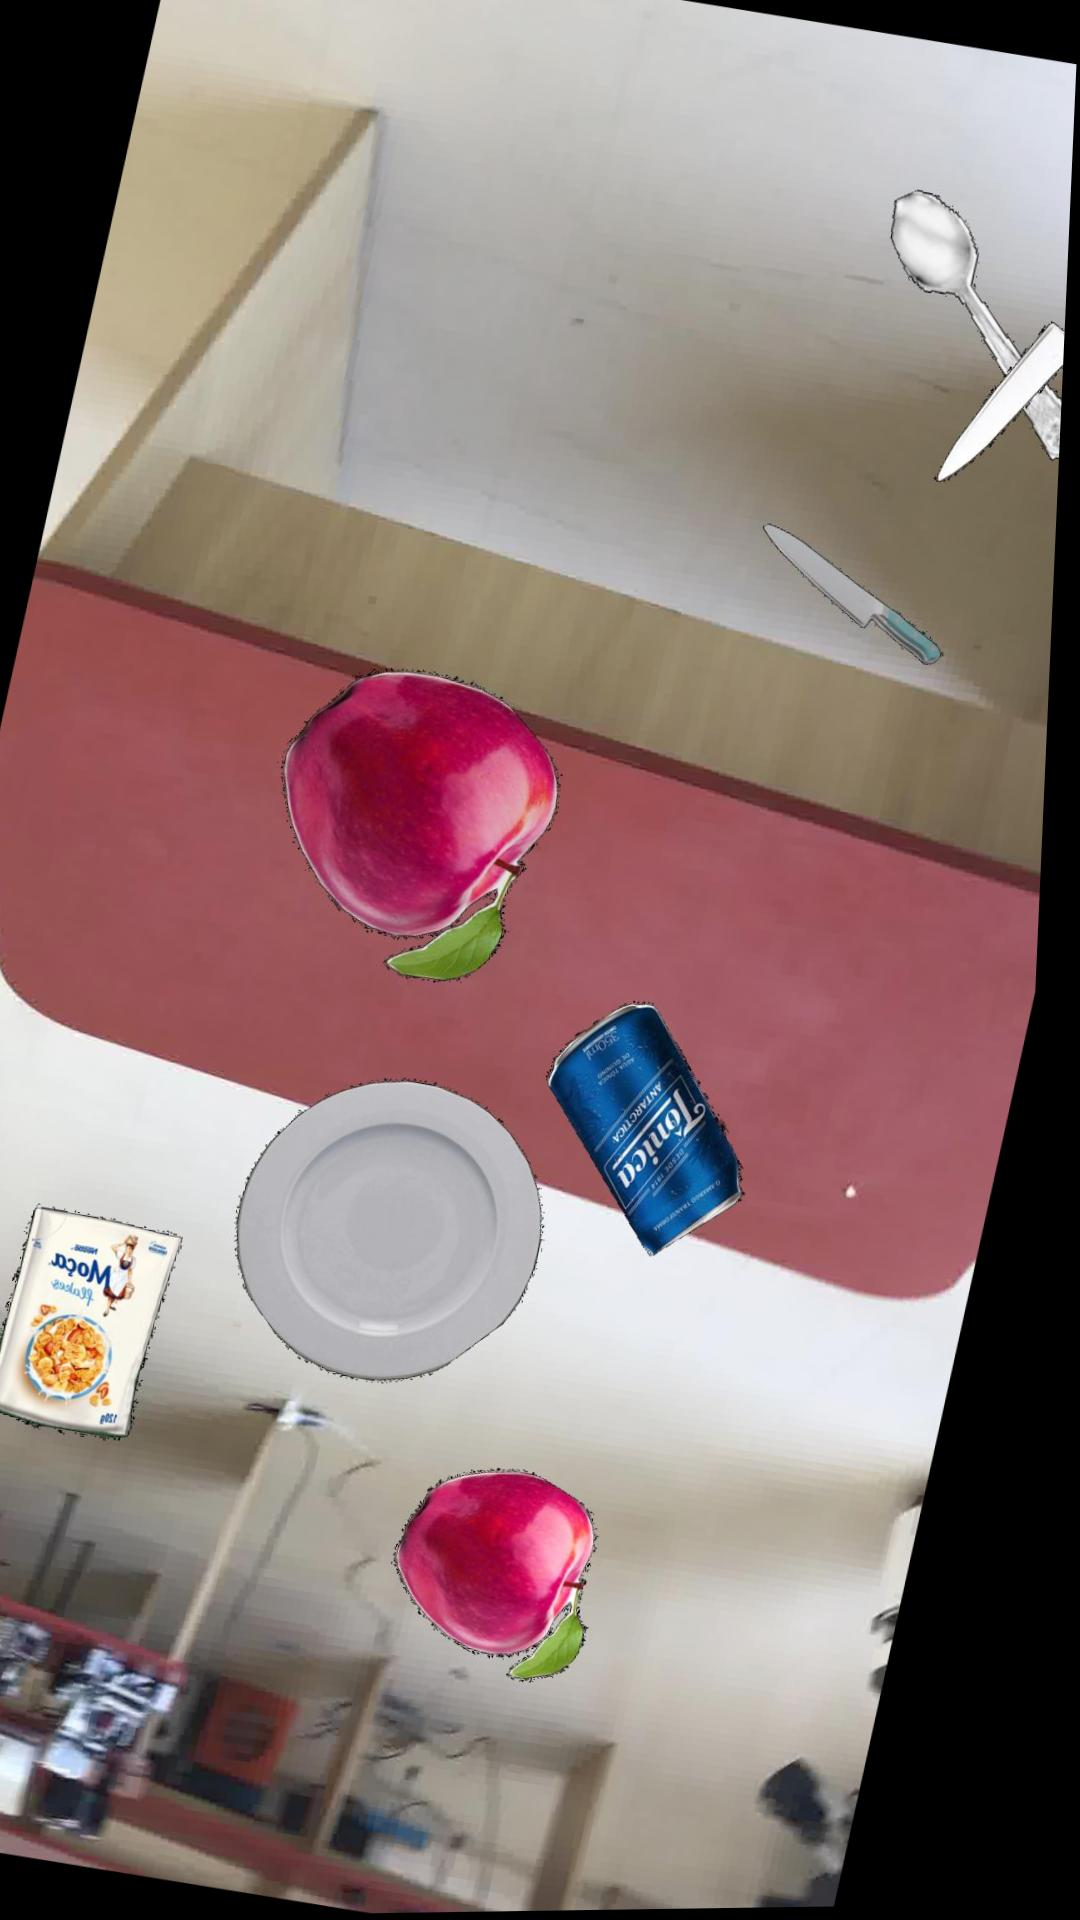apple: (290, 671, 568, 985), (411, 1474, 613, 1687)
corn flakes: (0, 1209, 195, 1443)
knife: (769, 527, 951, 670), (943, 326, 1068, 487)
plate: (248, 1083, 555, 1385)
spoon: (894, 195, 1065, 467)
tonic: (559, 1005, 757, 1259)
